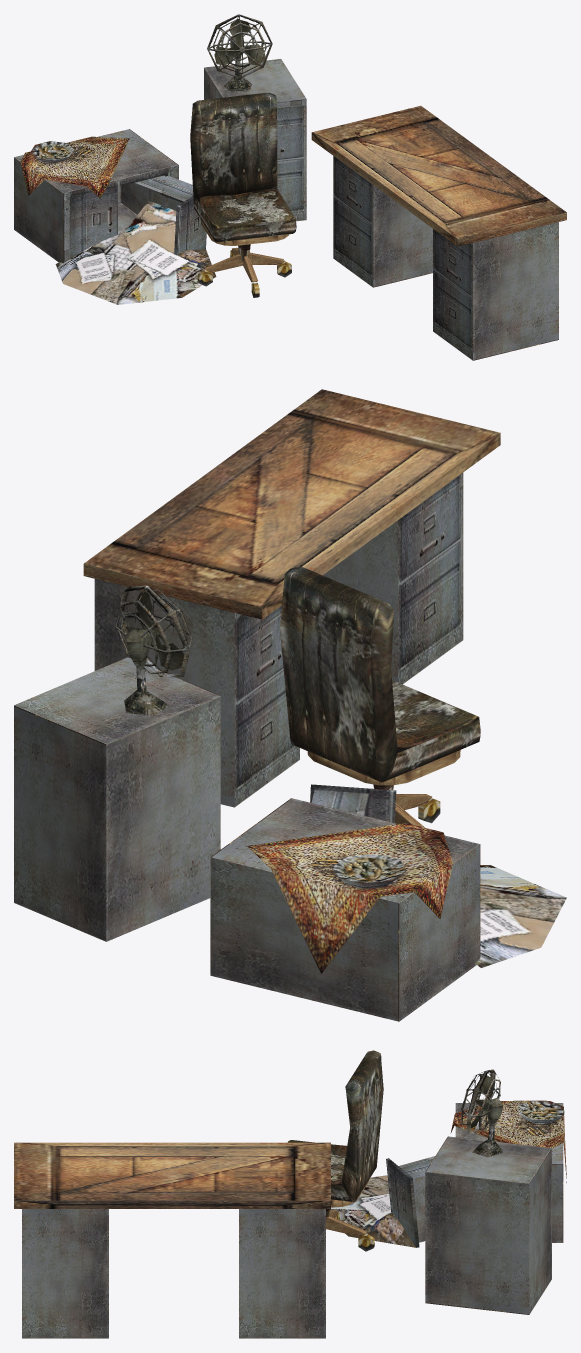
Rendered from rmoffica.glb.
3 views of the same model, one above another, from view 1: azimuth 30°, elevation 25°; view 2: azimuth 150°, elevation 25°; view 3: azimuth 270°, elevation 25° (orthographic). The views are drawn at different scales.
Parts seen in each view (by area): view 1: _rmoffica; view 2: _rmoffica; view 3: _rmoffica.
Boxes of the visible parts, x1,y1,x2,y2 form: _rmoffica: (14,14,566,360); _rmoffica: (14,389,566,1021); _rmoffica: (14,1050,566,1338).
Bounding box in the file's own units: 2.9 × 1.71 × 4.01.
3 materials, 3 textured.
